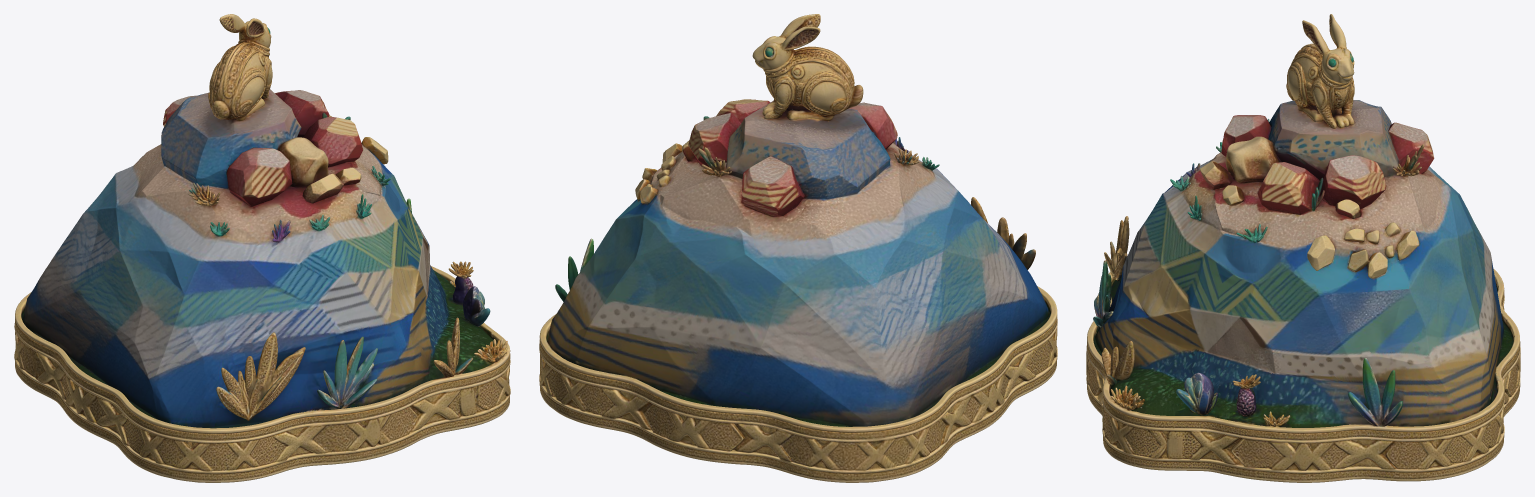
Rendered from 14-el-cerro-de-la-alcancía-y-el-conejo-dorado-optimized.glb.
The picture shows the model from 3 angles, left to right: view 1: azimuth 30°, elevation 25°; view 2: azimuth 150°, elevation 25°; view 3: azimuth 270°, elevation 25°; orthographic projection. The views are drawn at different scales.
Parts seen in each view (by area): view 1: tripo_node_e62d498c-49df-47ea-a300-ab73b9aae786; view 2: tripo_node_e62d498c-49df-47ea-a300-ab73b9aae786; view 3: tripo_node_e62d498c-49df-47ea-a300-ab73b9aae786.
Part boxes in pixels (box(x1,y1,x2,y2)): tripo_node_e62d498c-49df-47ea-a300-ab73b9aae786: box(14, 14, 510, 482); tripo_node_e62d498c-49df-47ea-a300-ab73b9aae786: box(539, 14, 1057, 482); tripo_node_e62d498c-49df-47ea-a300-ab73b9aae786: box(1086, 14, 1520, 482).
Size of the model in its own units: 1 by 0.9012 by 0.9835.
1 material, 1 textured.
